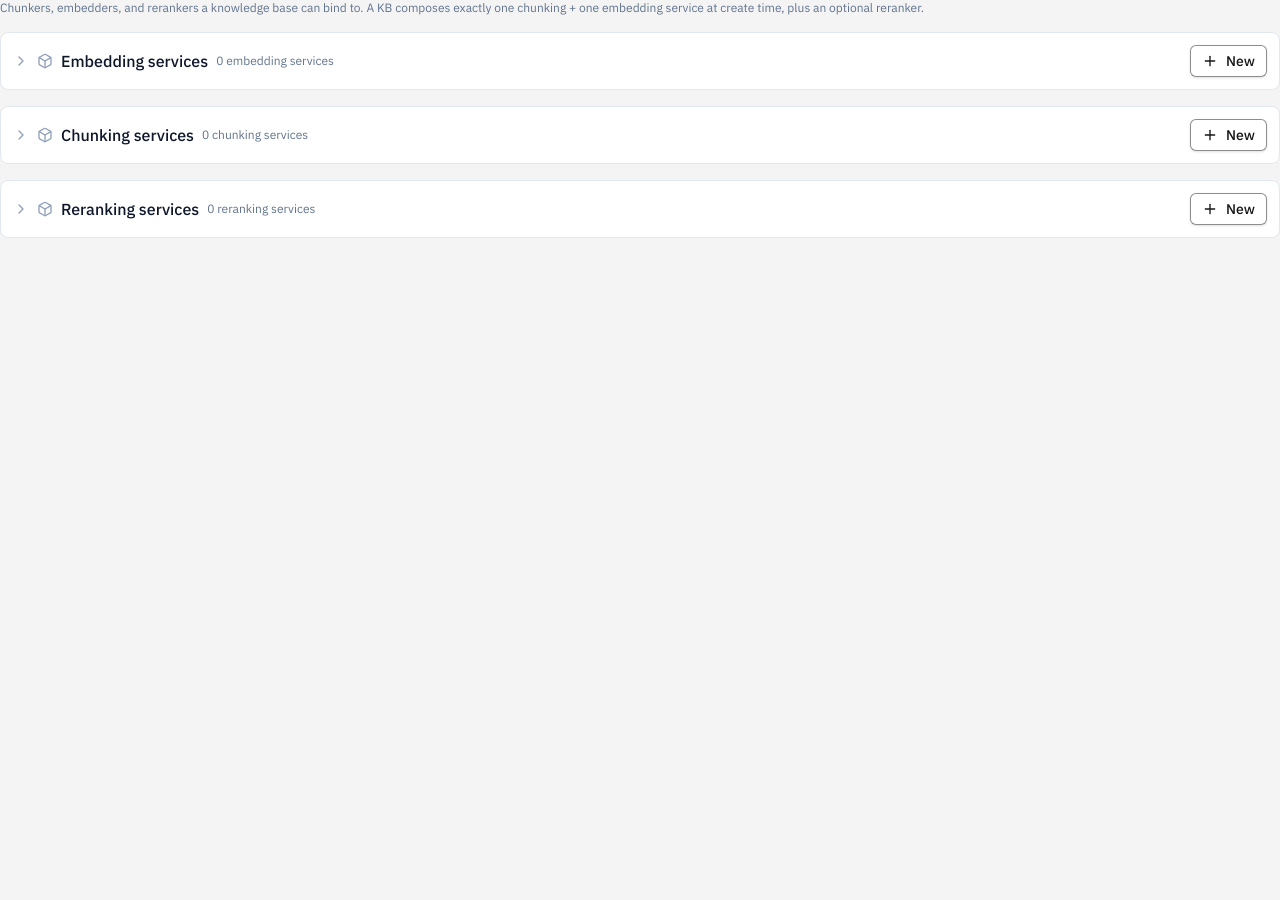
Scenario: ServicesPanel › opens the reranking create dialog with its provider and model fields
Click the 3rd button "New" at (1229, 209), box left=1190, top=193, right=1267, bottom=225
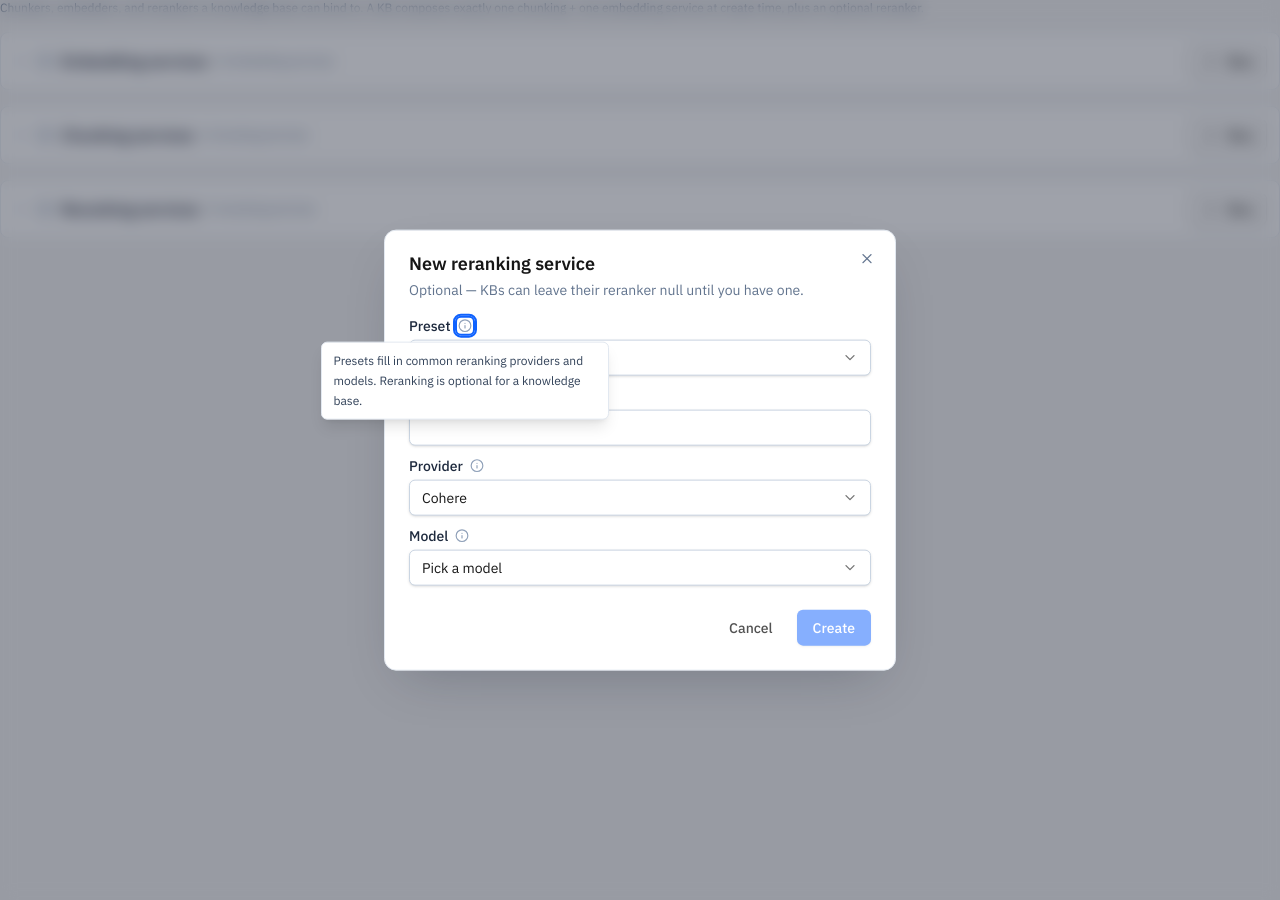
Expected: the heading "New reranking service" is shown, left=409, top=252, right=595, bottom=275
Expected: the dropdown named "Provider" is shown, left=409, top=479, right=871, bottom=515
Expected: the dropdown labelled "Pick a model" is shown, left=409, top=549, right=871, bottom=585
